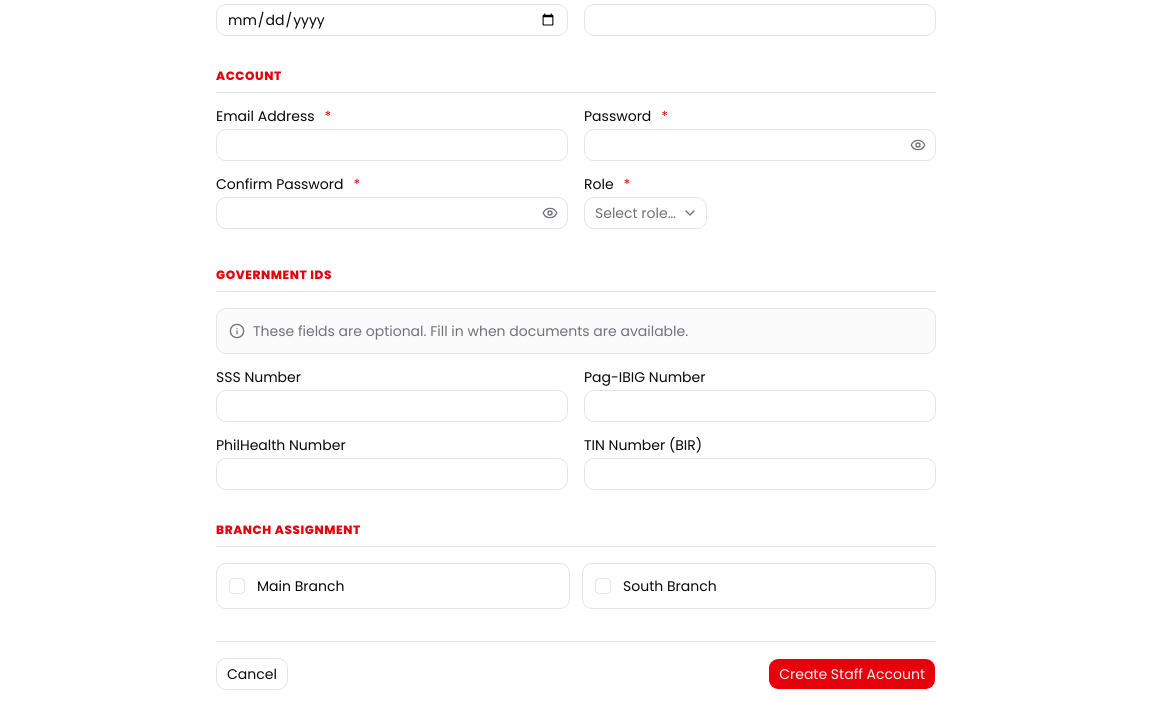
Test case: CreateUserPage › shows required field errors when submitting an empty form
(page scrolled)
Click the button "Create Staff Account" at x=852, y=674, box [768,658,936,690]
(page scrolled)
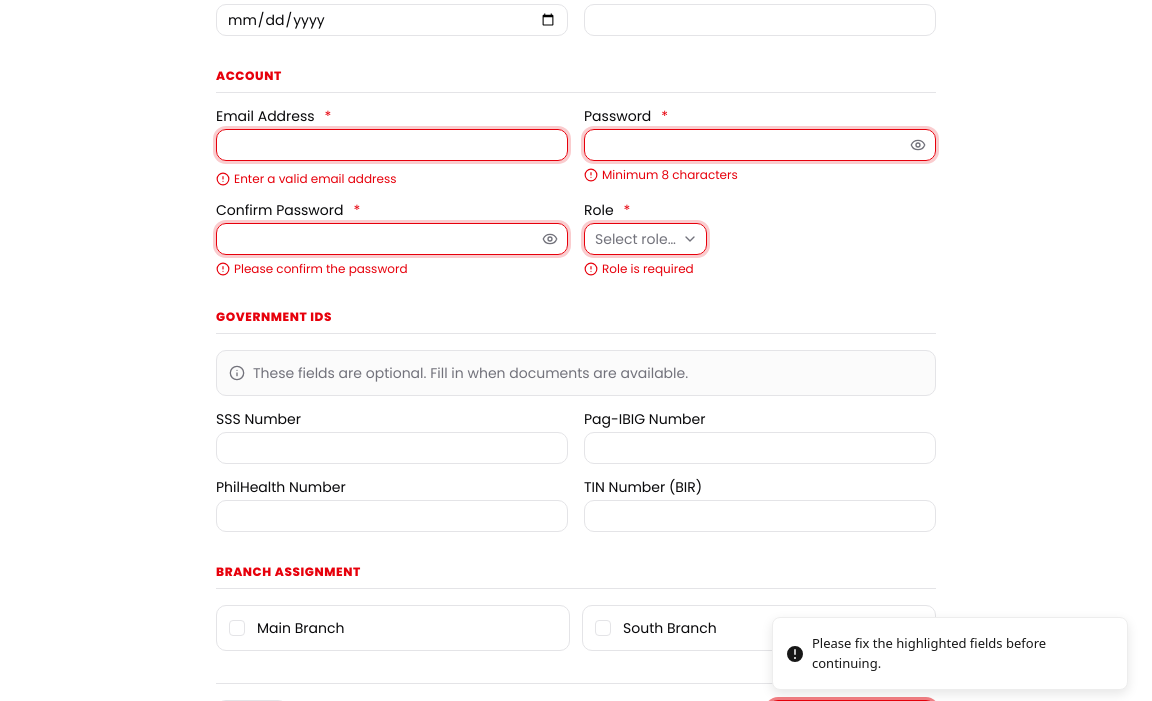
Expected: the text "Enter a valid email address" is shown, [216,170,396,187]
